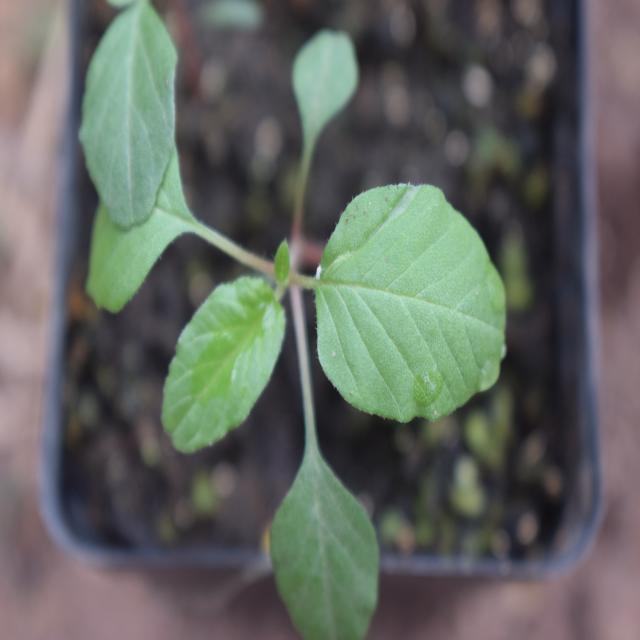pigweed: (91, 98, 522, 623)
